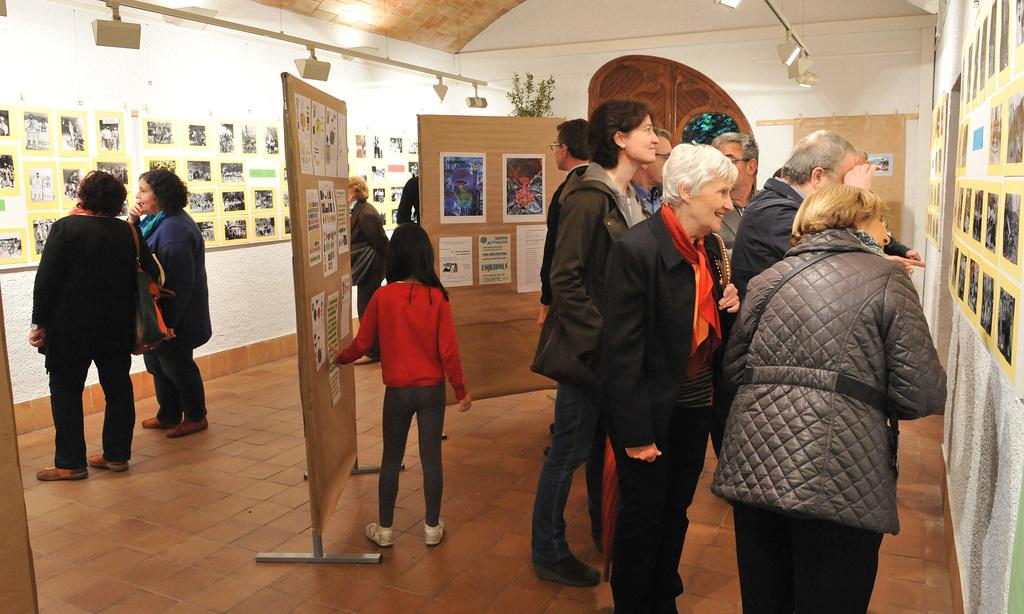Sem Máscara: (689, 183, 732, 231), (625, 111, 657, 160), (716, 142, 745, 188), (646, 134, 671, 181), (860, 211, 887, 246), (133, 177, 151, 213), (552, 136, 560, 165)
